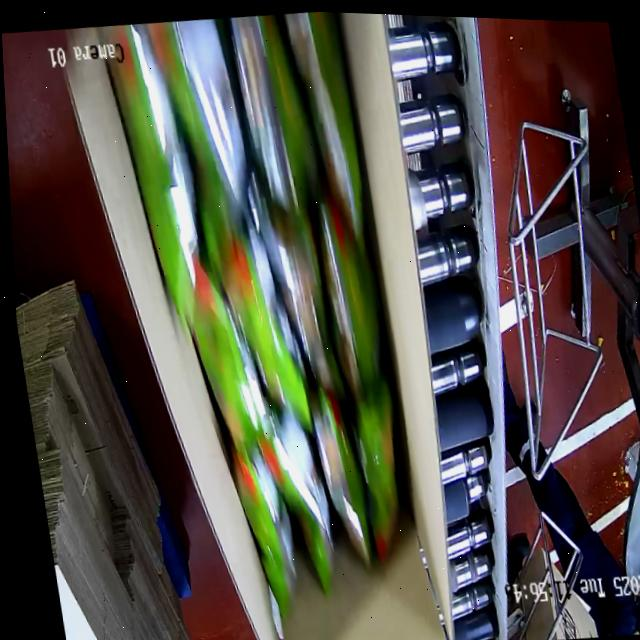YOGURT_HERB: (105, 4, 442, 629)
